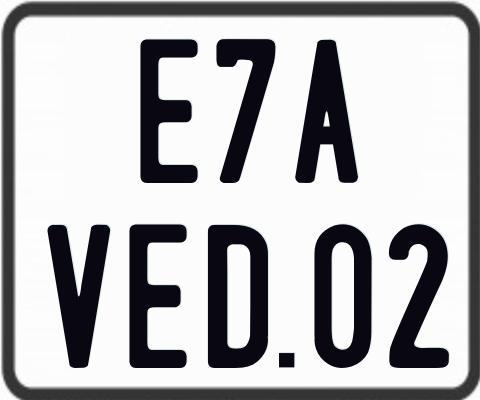0: (313, 221, 371, 370)
2: (387, 221, 452, 371)
7: (215, 38, 277, 182)
A: (292, 40, 361, 184)
D: (207, 225, 268, 369)
E: (127, 223, 188, 367), (137, 39, 195, 188)
V: (47, 223, 112, 370)
